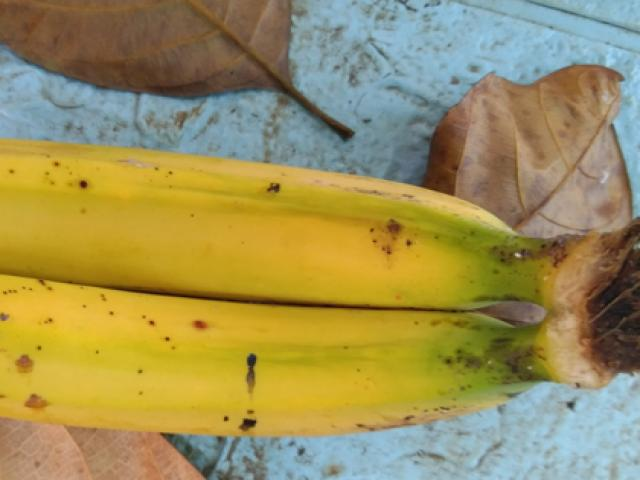freshripe: (0, 117, 554, 278)
ripe: (0, 276, 512, 479)
